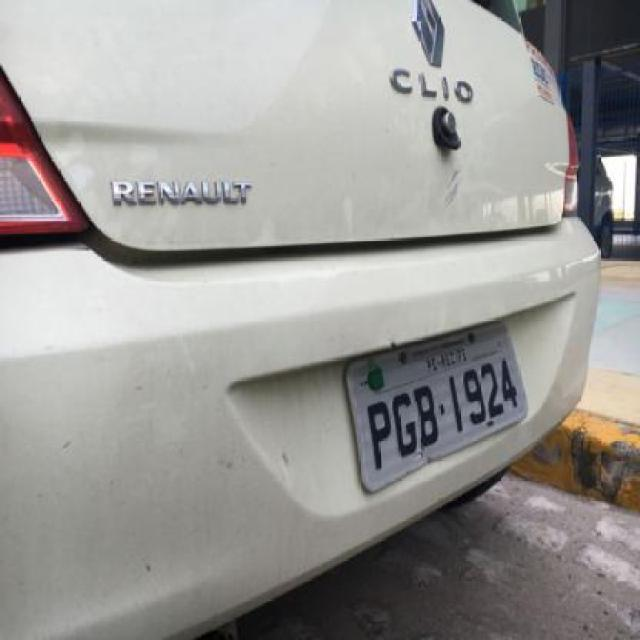old_plate: (338, 312, 534, 499)
